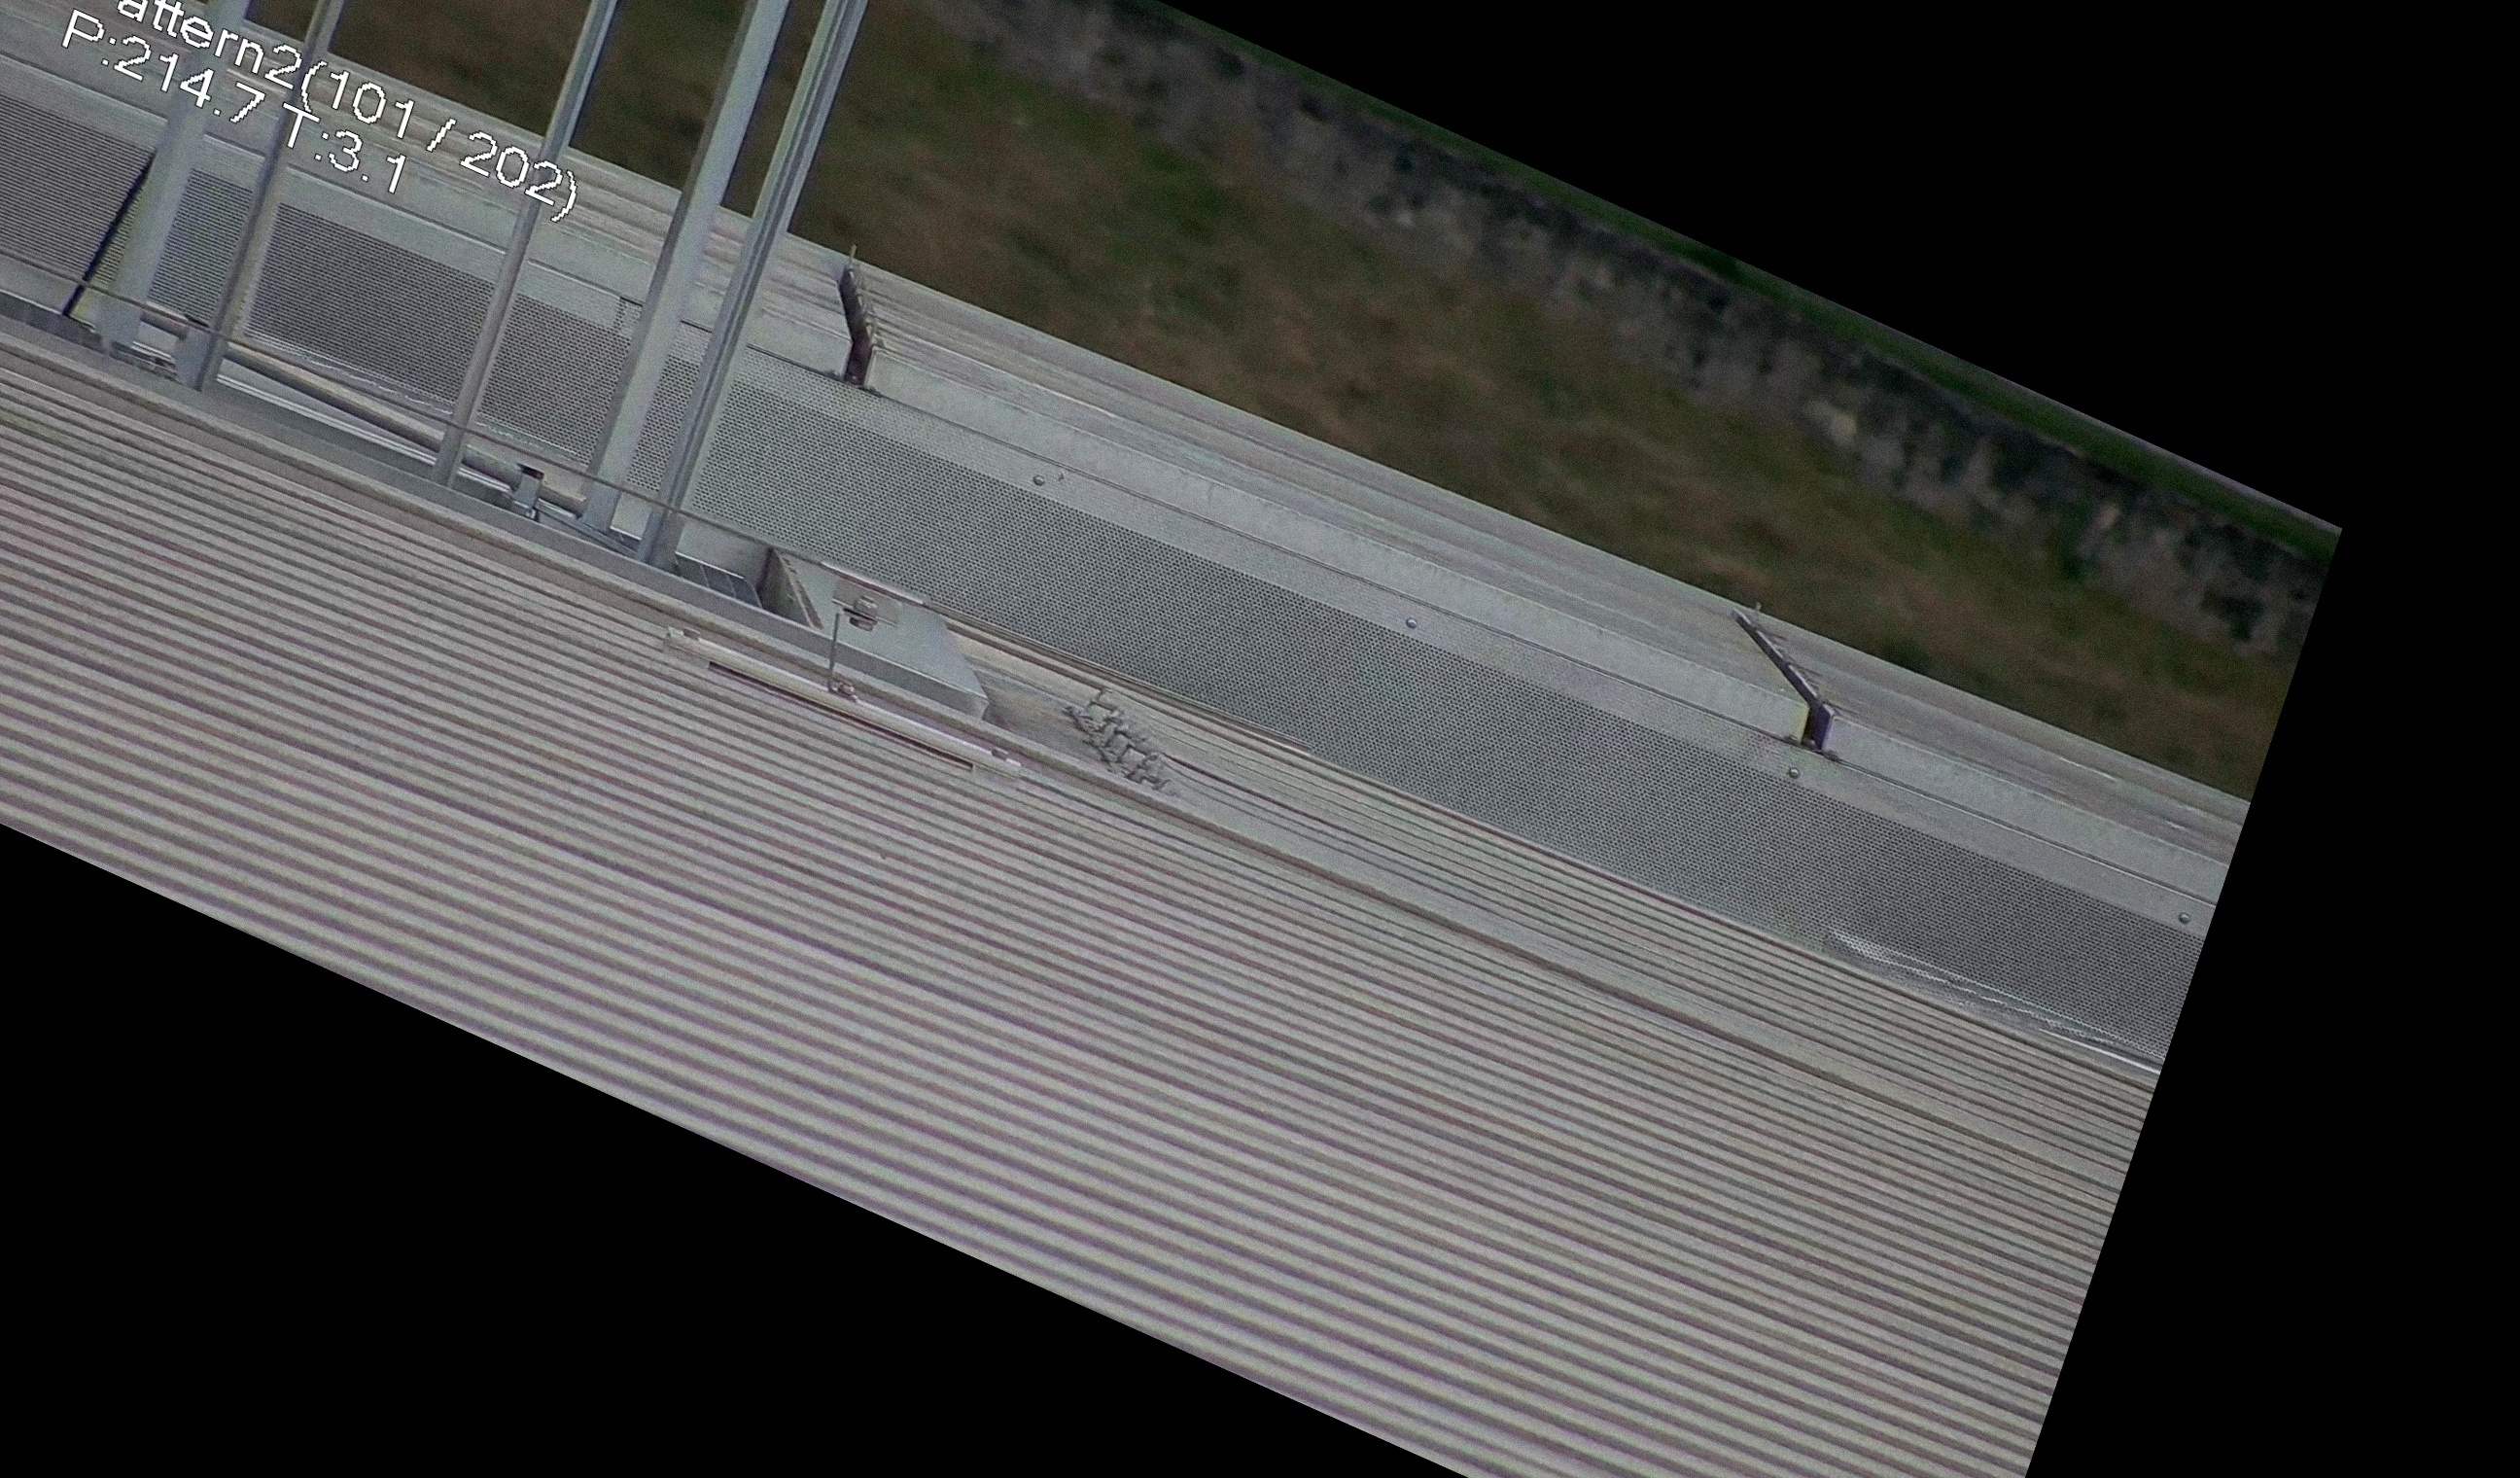Other: (784, 234, 918, 396)
